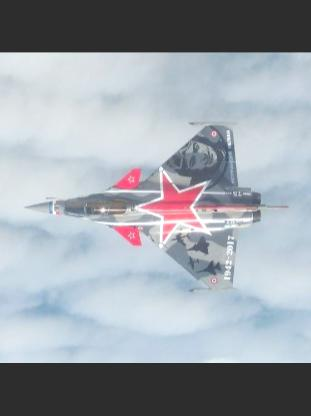RQ4: (23, 122, 290, 292)
